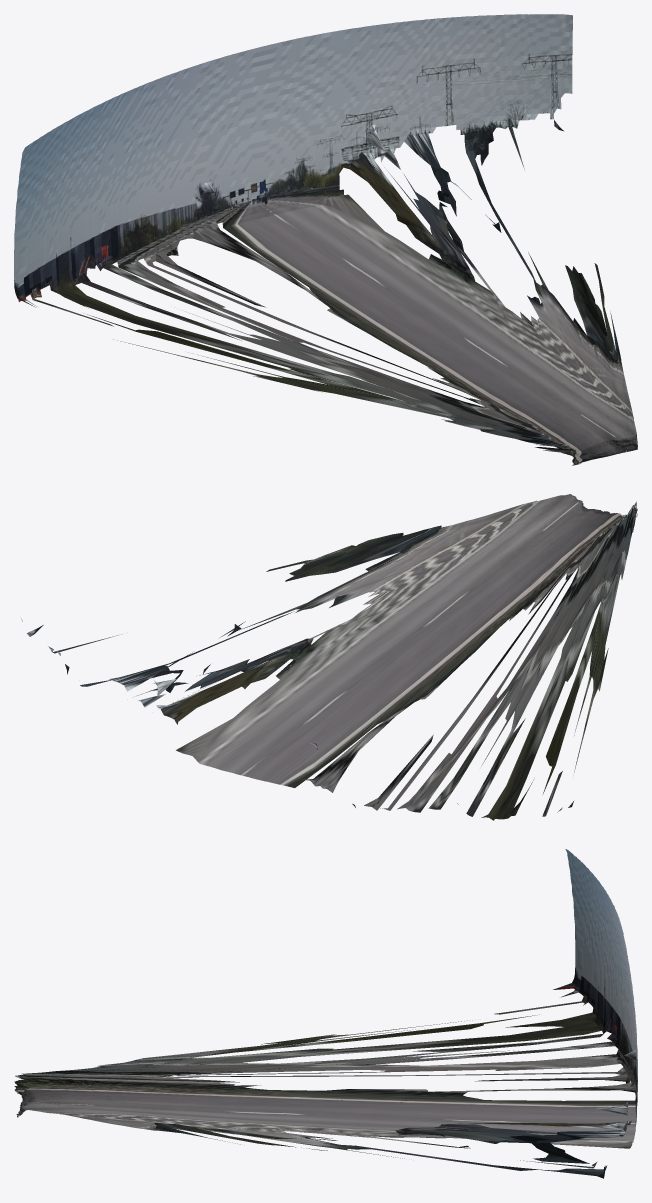
3 views of the same model, one above another, from view 1: azimuth 30°, elevation 25°; view 2: azimuth 150°, elevation 25°; view 3: azimuth 270°, elevation 25° (orthographic). The views are drawn at different scales.
Parts seen in each view (by area): view 1: defaultobject; view 2: defaultobject; view 3: defaultobject.
Part boxes in pixels (bbox=[...]): defaultobject: bbox=[14, 14, 637, 465]; defaultobject: bbox=[21, 494, 637, 820]; defaultobject: bbox=[14, 849, 637, 1178].
Size of the model in its own units: 41.11 by 13.18 by 44.59.
Materials: 1 (1 with a texture image).
